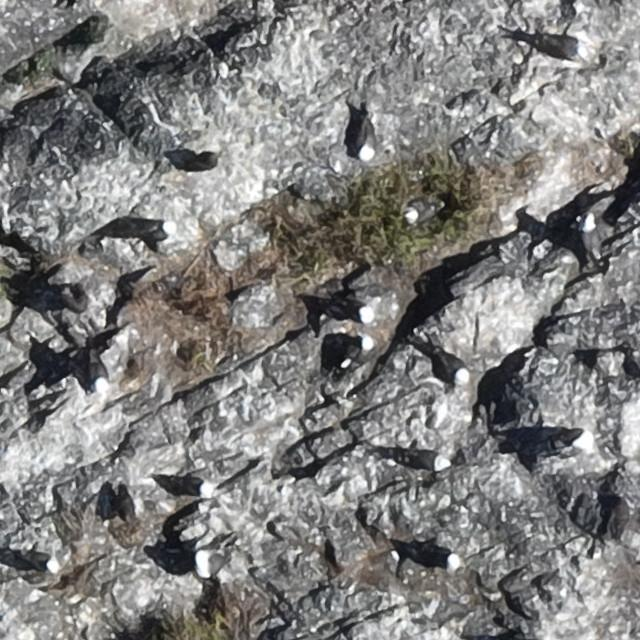umineko: (531, 35, 589, 59), (579, 213, 602, 261), (15, 550, 60, 573), (86, 353, 108, 397), (404, 451, 450, 472), (553, 427, 591, 452), (337, 297, 373, 323), (167, 478, 213, 496), (437, 357, 468, 382), (421, 548, 459, 568), (147, 220, 176, 242), (198, 551, 223, 576), (360, 122, 377, 158), (405, 201, 433, 221), (356, 335, 374, 352)
